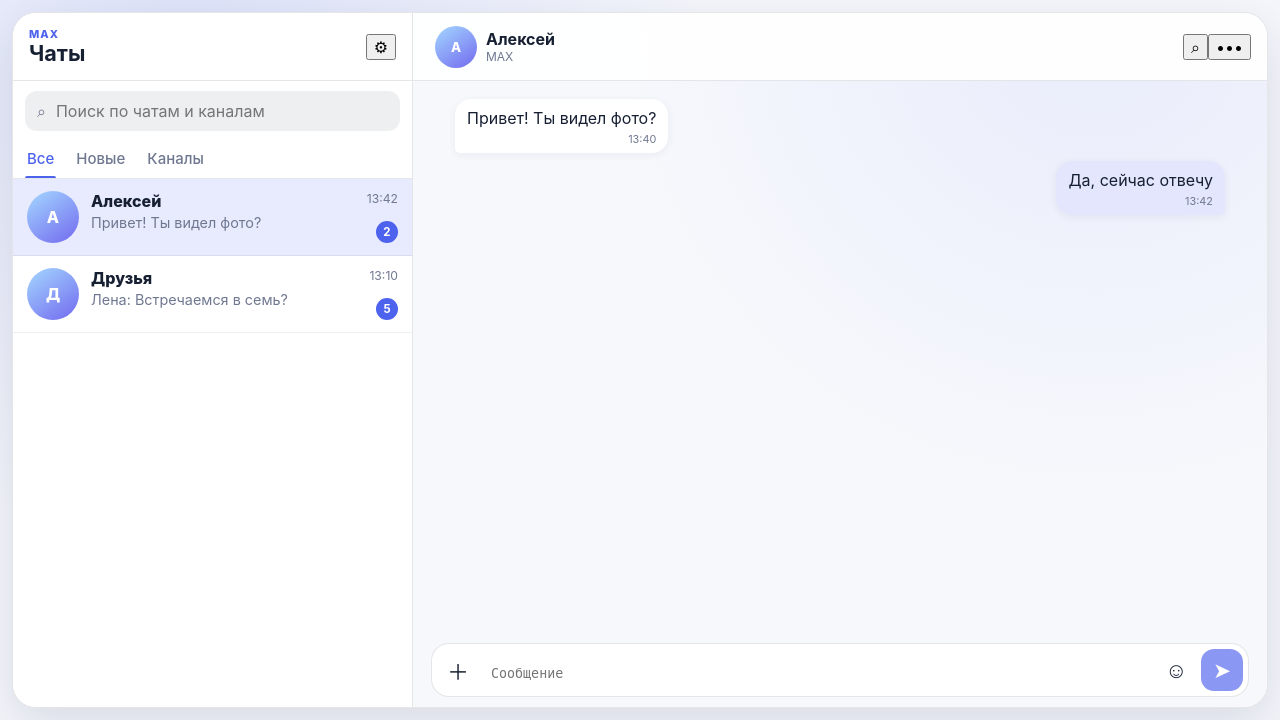
Test case: narrow messenger gestures › pages folders with a left swipe instead of opening the chat
Press the mouse on the element with test id "messenger-surface" at (640, 360), box 0,0 -> 1279,719
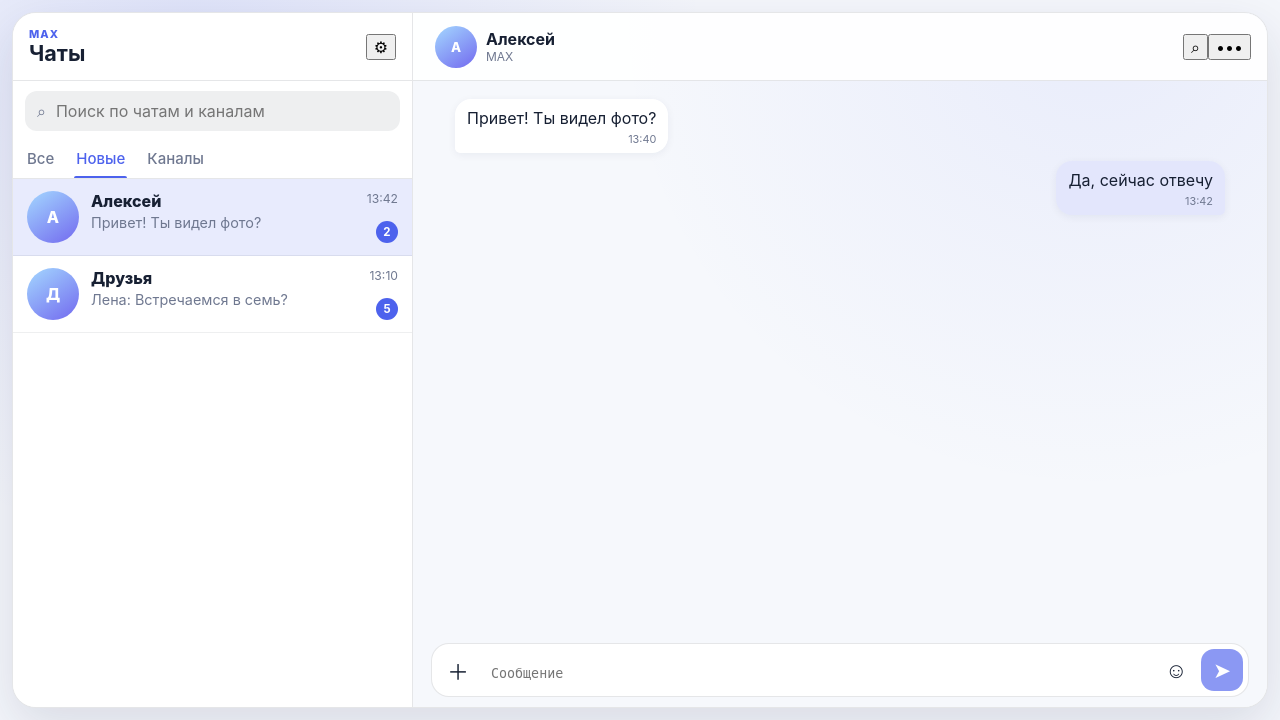
Now the tab "Новые" is selected, box 74,141 -> 127,178
